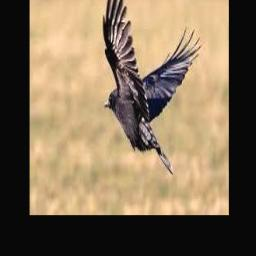Crow: (103, 0, 202, 173)
